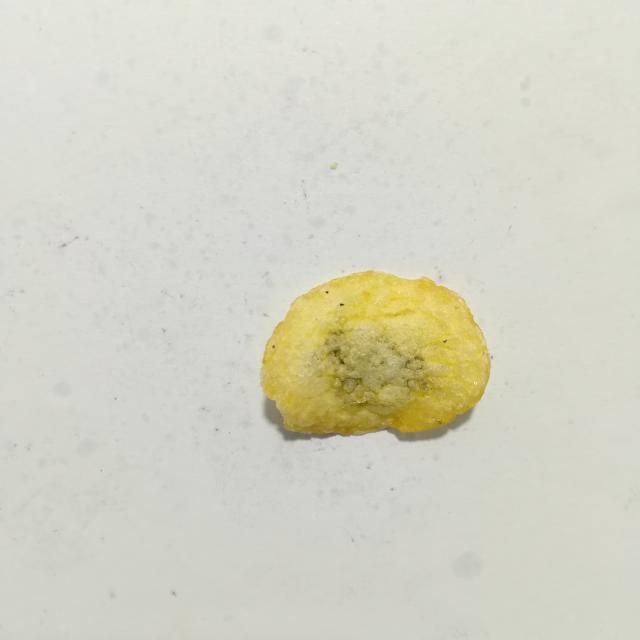chip: (261, 271, 490, 435)
damaged: (340, 303, 345, 306), (325, 291, 329, 294), (443, 340, 447, 343)
semi-damaged: (312, 326, 428, 415), (272, 345, 275, 348)
